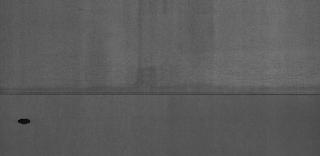punching hole: (16, 117, 32, 127)
welding line: (2, 88, 318, 100)
